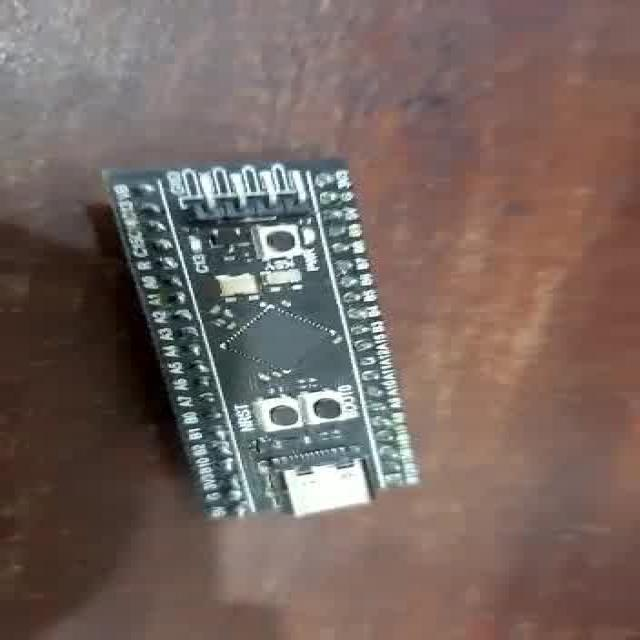stm32: (103, 164, 440, 536)
